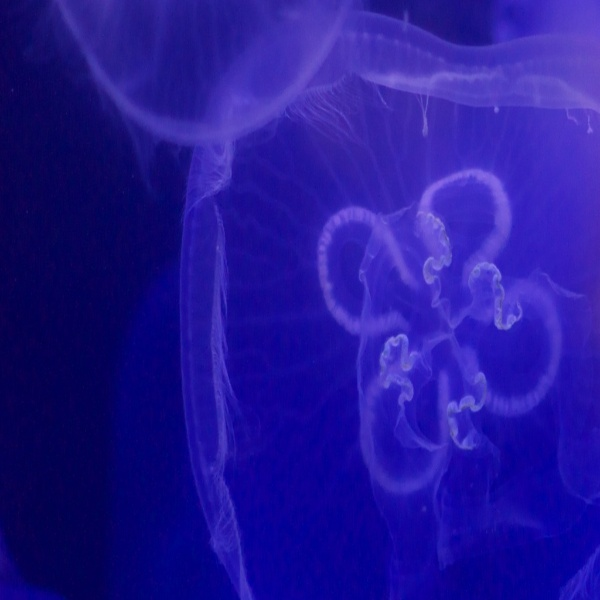Jellyfish: (314, 156, 568, 543), (58, 0, 352, 149)
